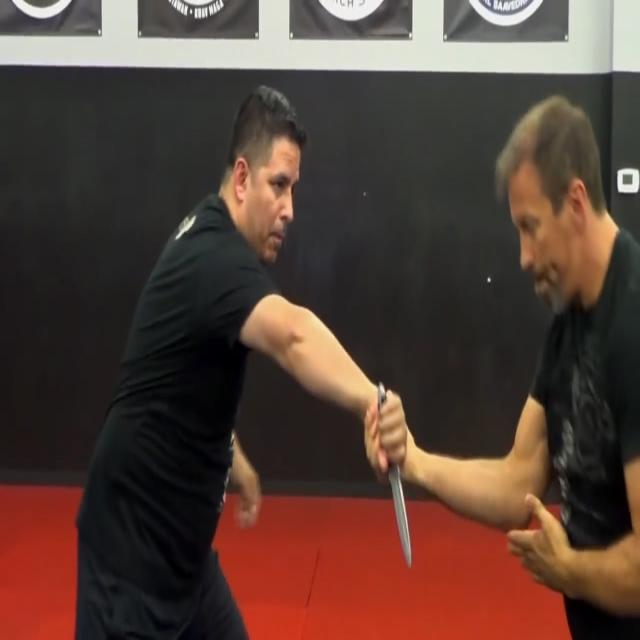knife: (387, 466, 417, 569)
